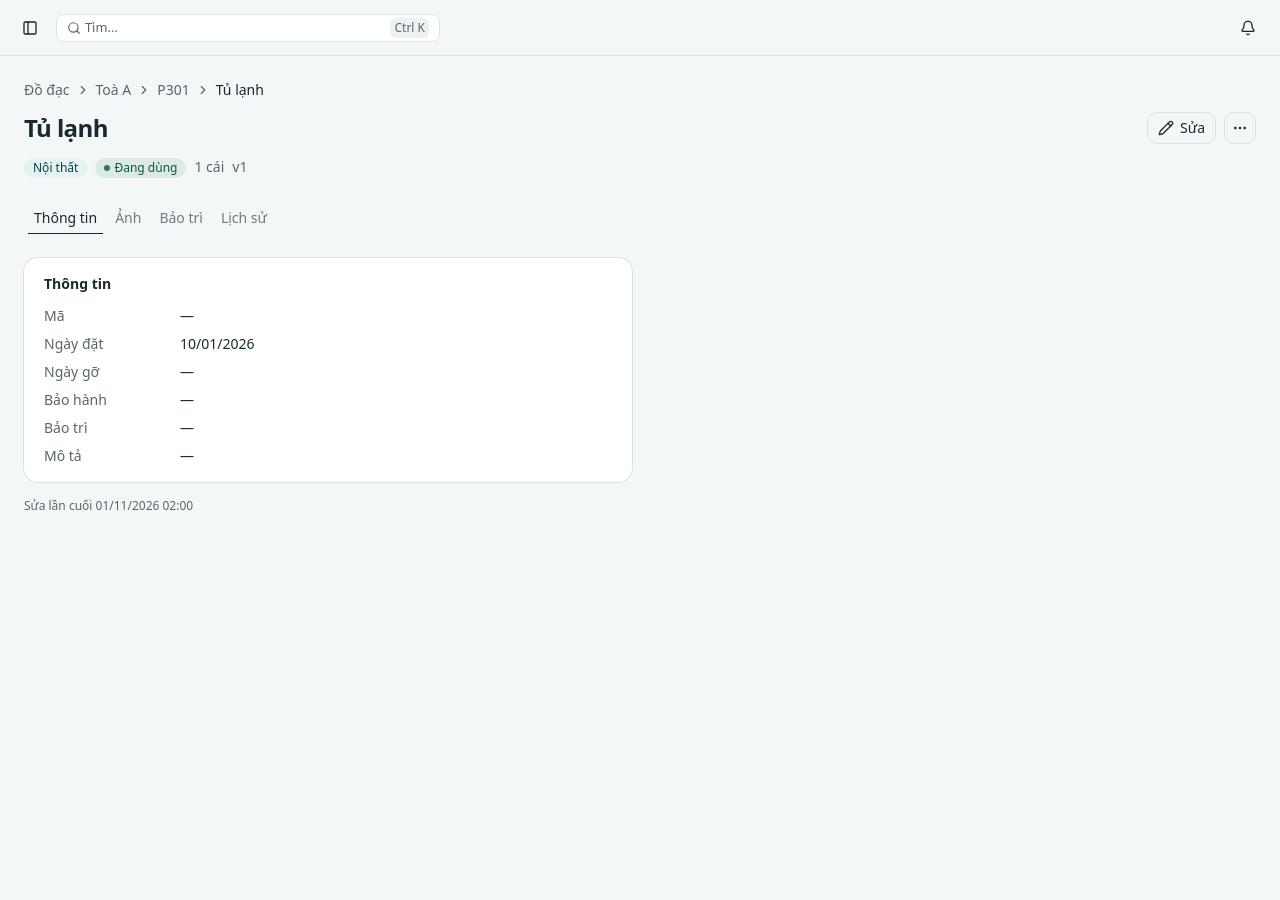
Test: replaceMovesTheOldOneToRemovedAndLinksTheNewOne
Later steps or results of the test are not shown.
Click the button named "Thao tác khác".
click(1240, 128)  # box [1224,112,1256,144]
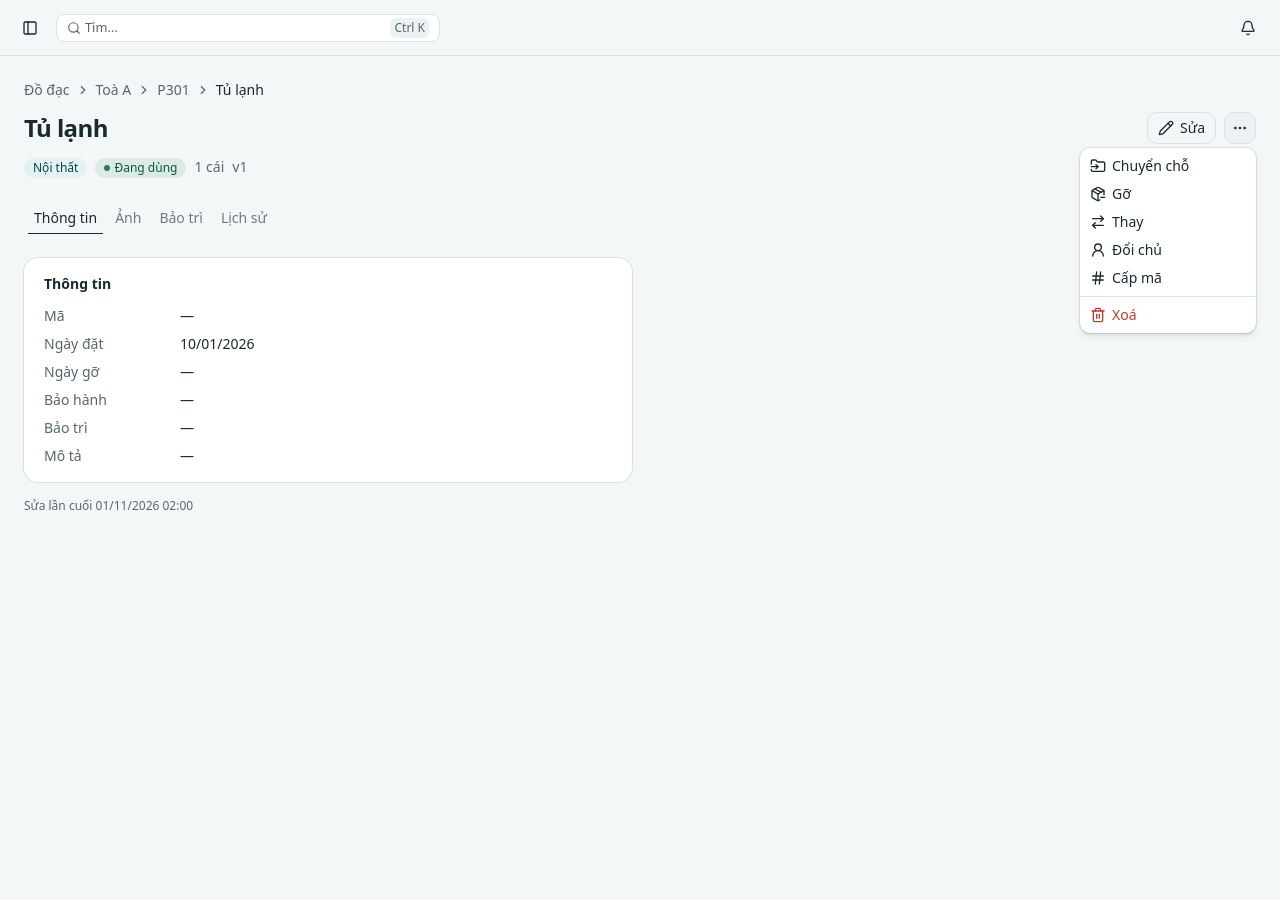
Click the menu item "Thay".
click(1117, 222)  # box [1090,212,1143,231]
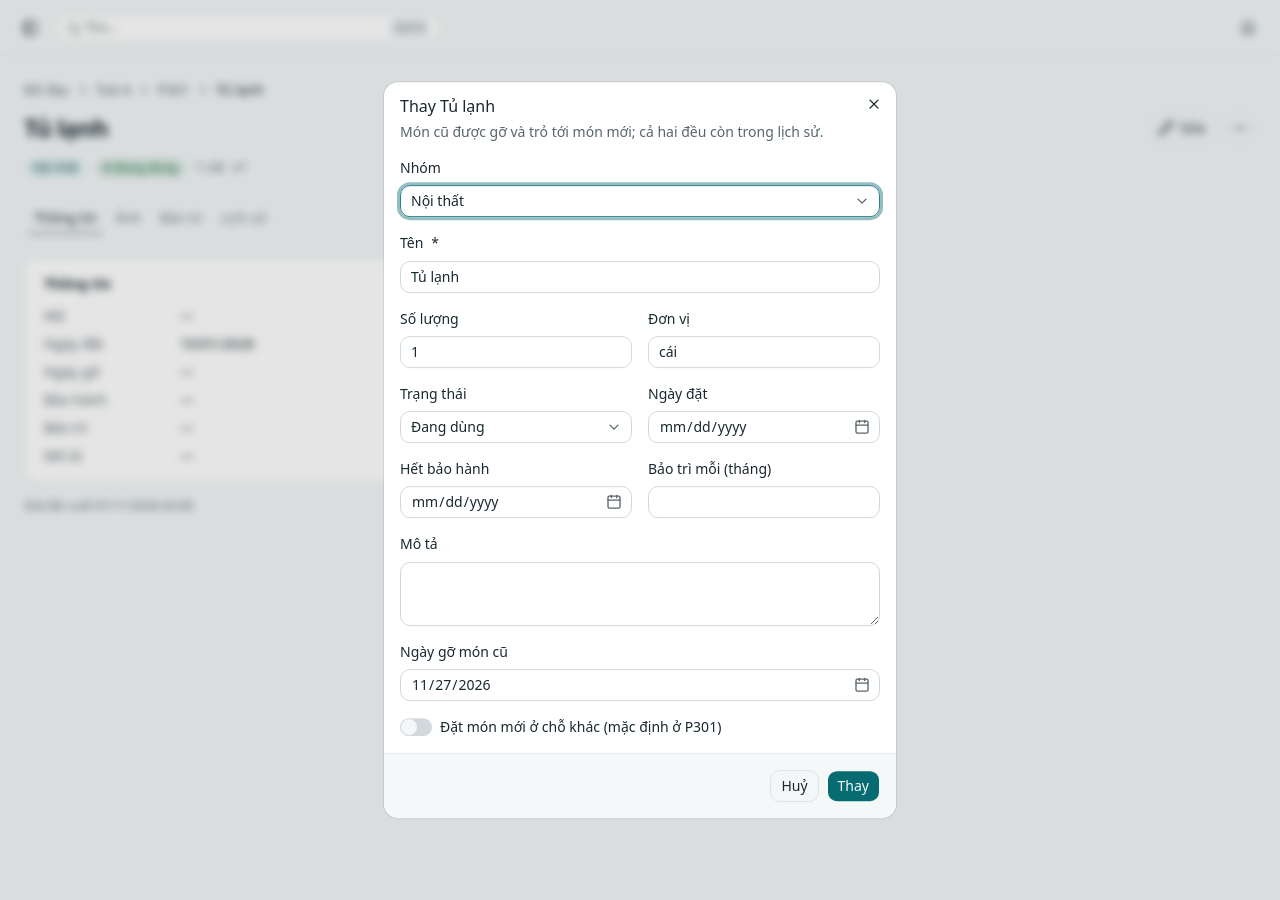
Expected: the field labelled "Tên" holds "Tủ lạnh"
Replace the text in the field labelled "Tên" with "Tủ lạnh mới" at (640, 277), box [400,261,880,293]
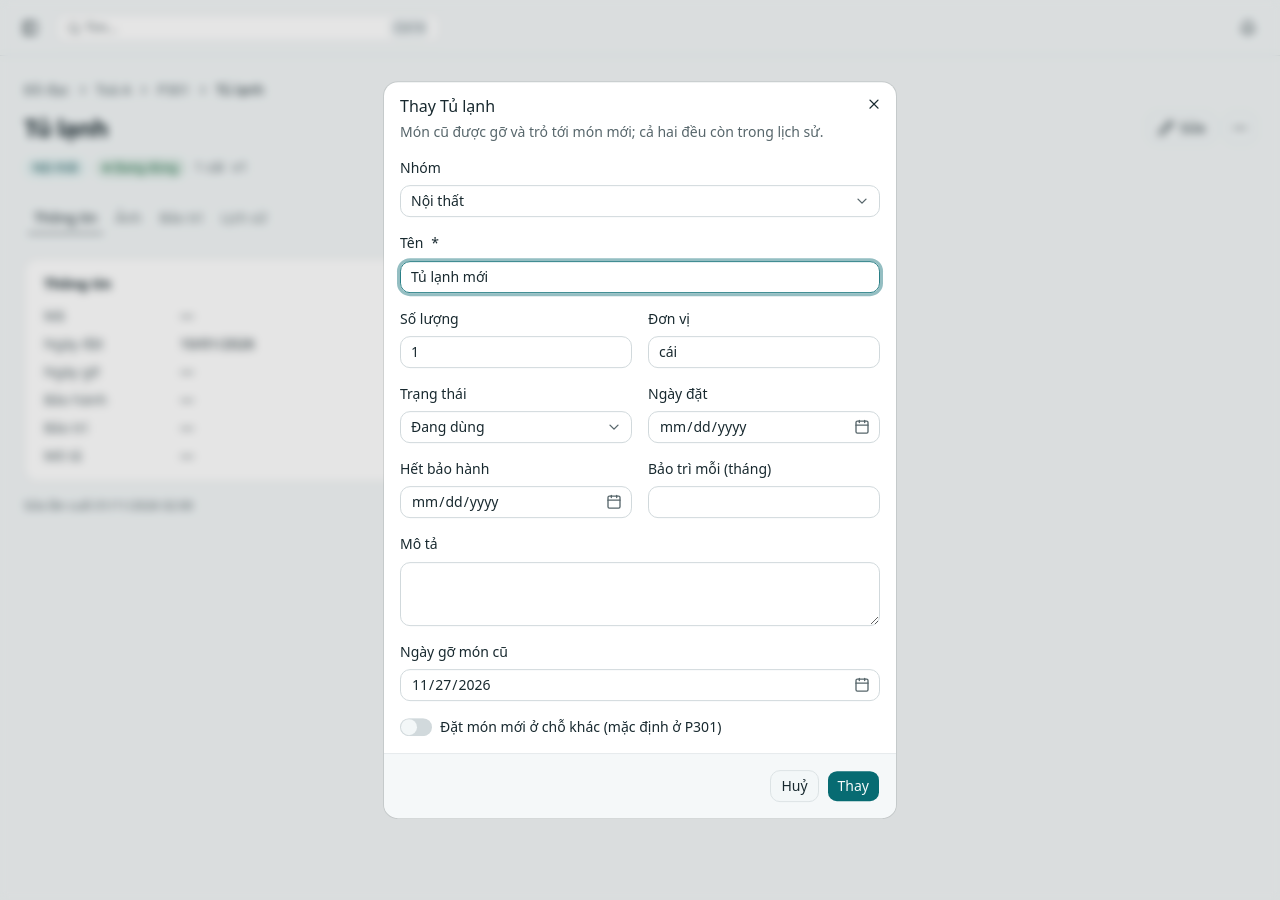
Expected: the button "Thay" is enabled
Click the button "Thay".
click(853, 786)  # box [827,770,880,802]
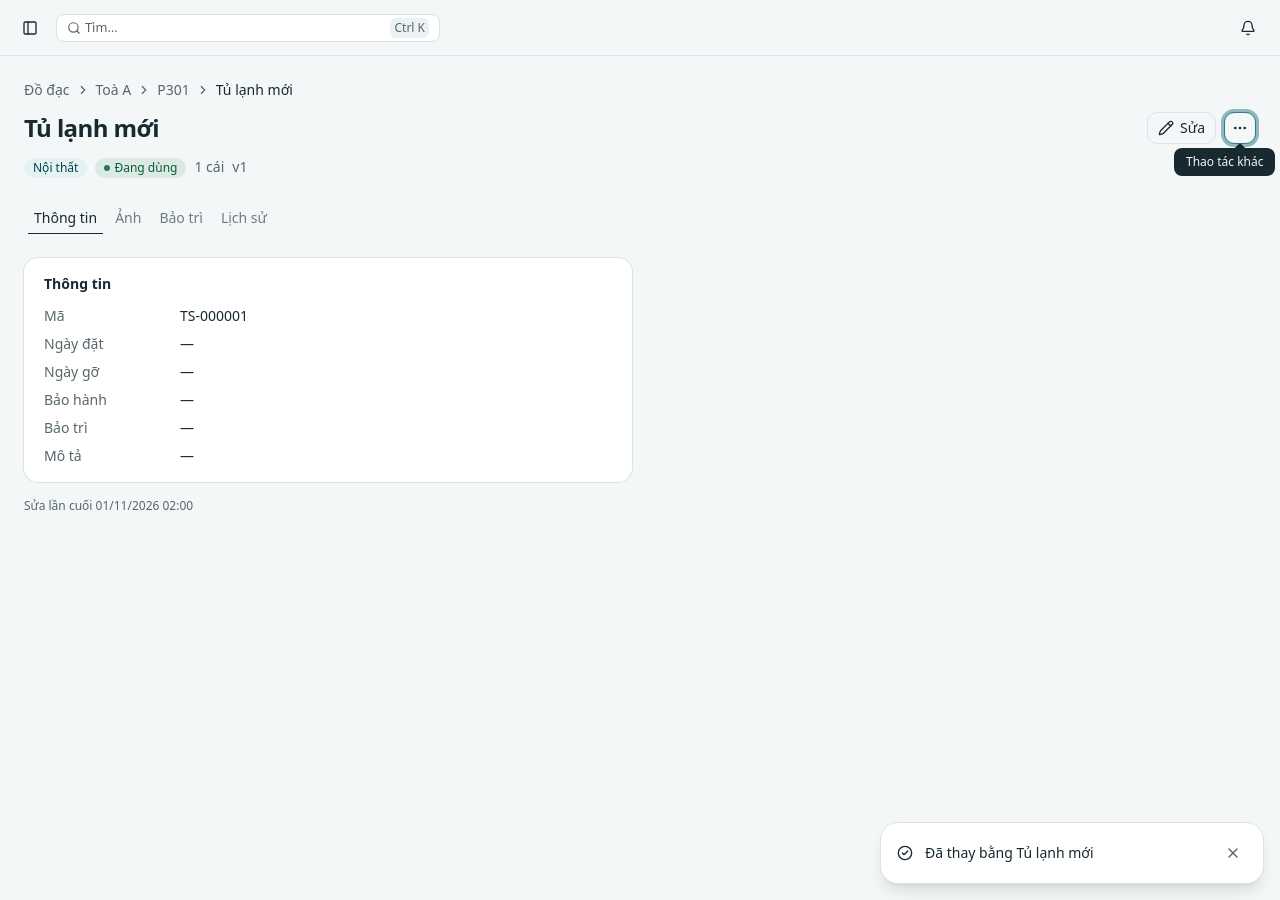
Expected: the heading "Tủ lạnh mới" is shown, [24,111,159,144]
